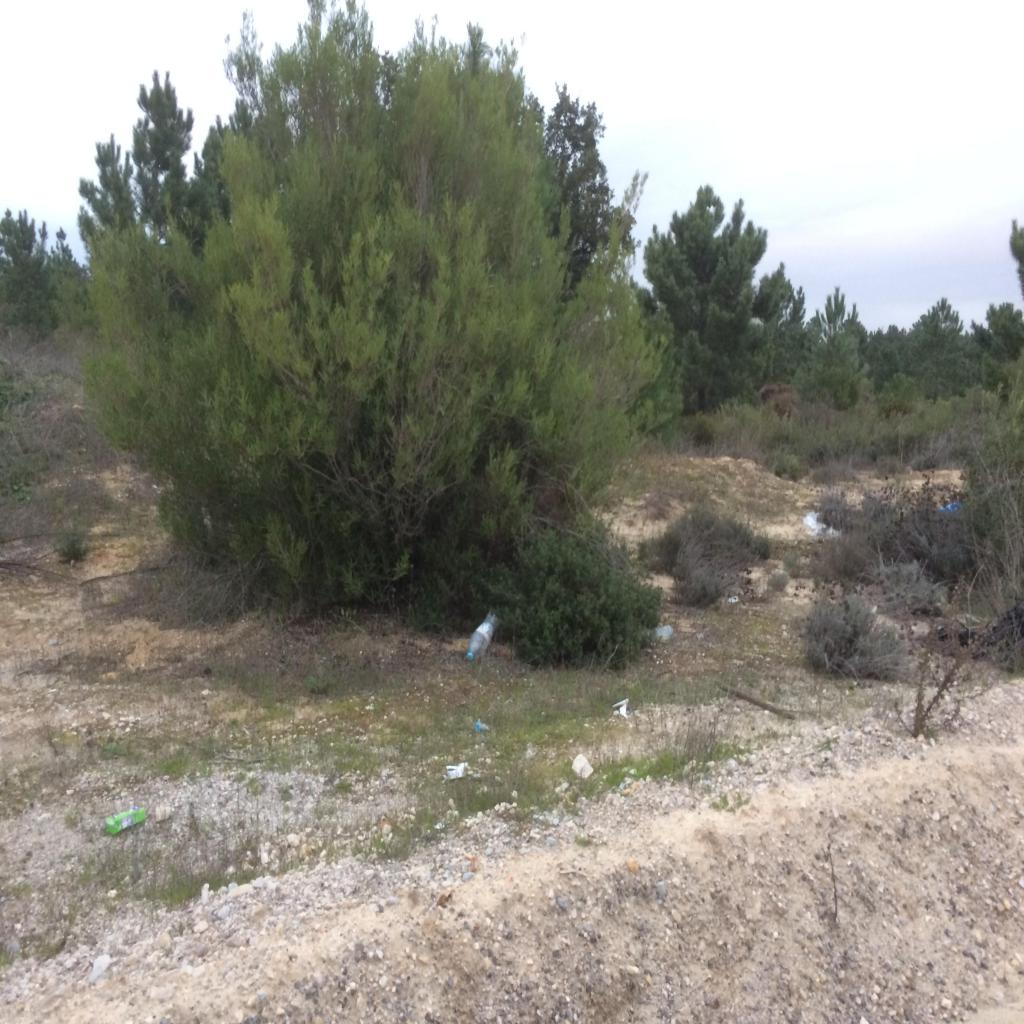Clear plastic bottle: (467, 612, 501, 660)
Plastic bottle cap: (467, 652, 473, 660)
Unlabeled litter: (442, 762, 469, 780), (474, 718, 488, 732)
